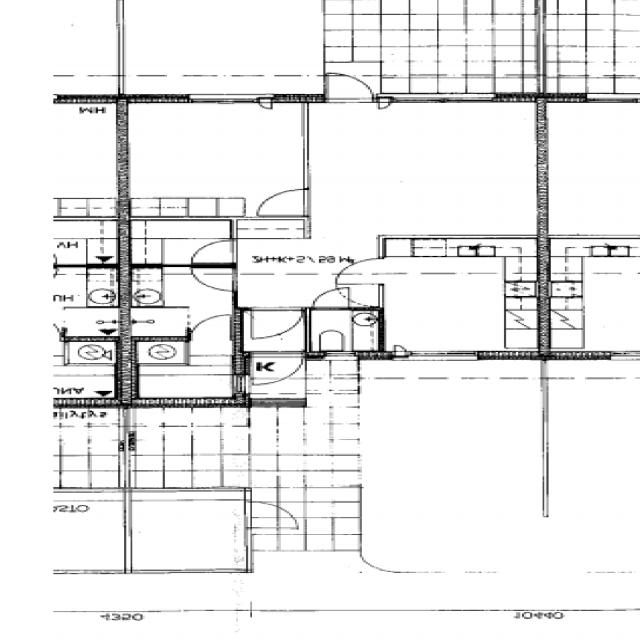door: (253, 351, 302, 387), (328, 69, 374, 103), (251, 308, 301, 339), (332, 259, 385, 285), (247, 503, 300, 529), (255, 190, 309, 215), (190, 268, 238, 292), (190, 240, 238, 264), (191, 315, 231, 342), (312, 287, 349, 311)
